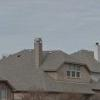Chimney: (24, 28, 46, 67)
